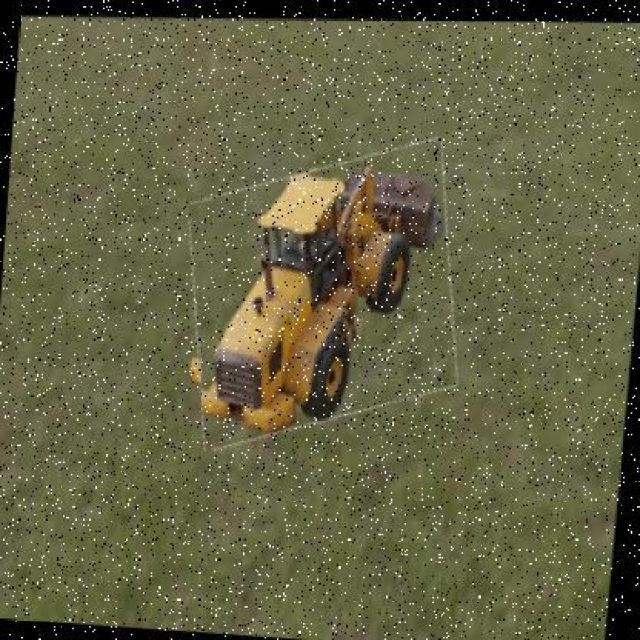buldozerpayloadergrader: (197, 158, 452, 447)
